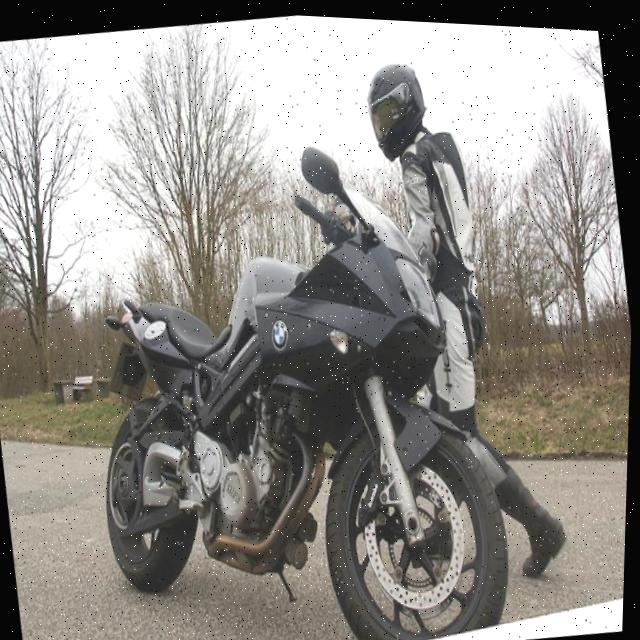motorcycle: (48, 105, 540, 640)
